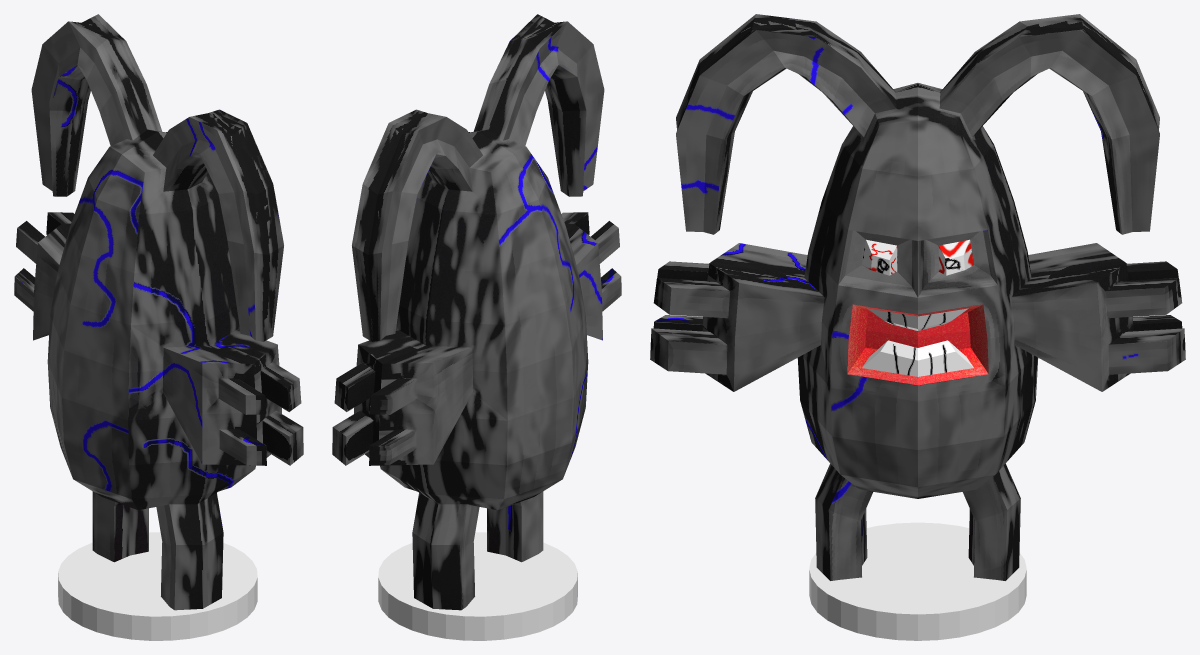
File: chongle.gltf
The picture shows the model from 3 angles, left to right: view 1: azimuth 30°, elevation 25°; view 2: azimuth 150°, elevation 25°; view 3: azimuth 270°, elevation 25°; orthographic projection. The views are drawn at different scales.
Visible parts, largest first — view 1: Cube, Cylinder; view 2: Cube, Cylinder; view 3: Cube, Cylinder.
Part boxes in pixels (x1,y1,x2,y2): Cube: (14,14,303,610); Cylinder: (58,532,257,640); Cube: (332,14,621,610); Cylinder: (378,532,577,640); Cube: (650,14,1185,580); Cylinder: (809,522,1026,640).
Bounding box in the file's own units: 2.22 × 5.81 × 4.92.
Materials: 4 (3 with a texture image).
